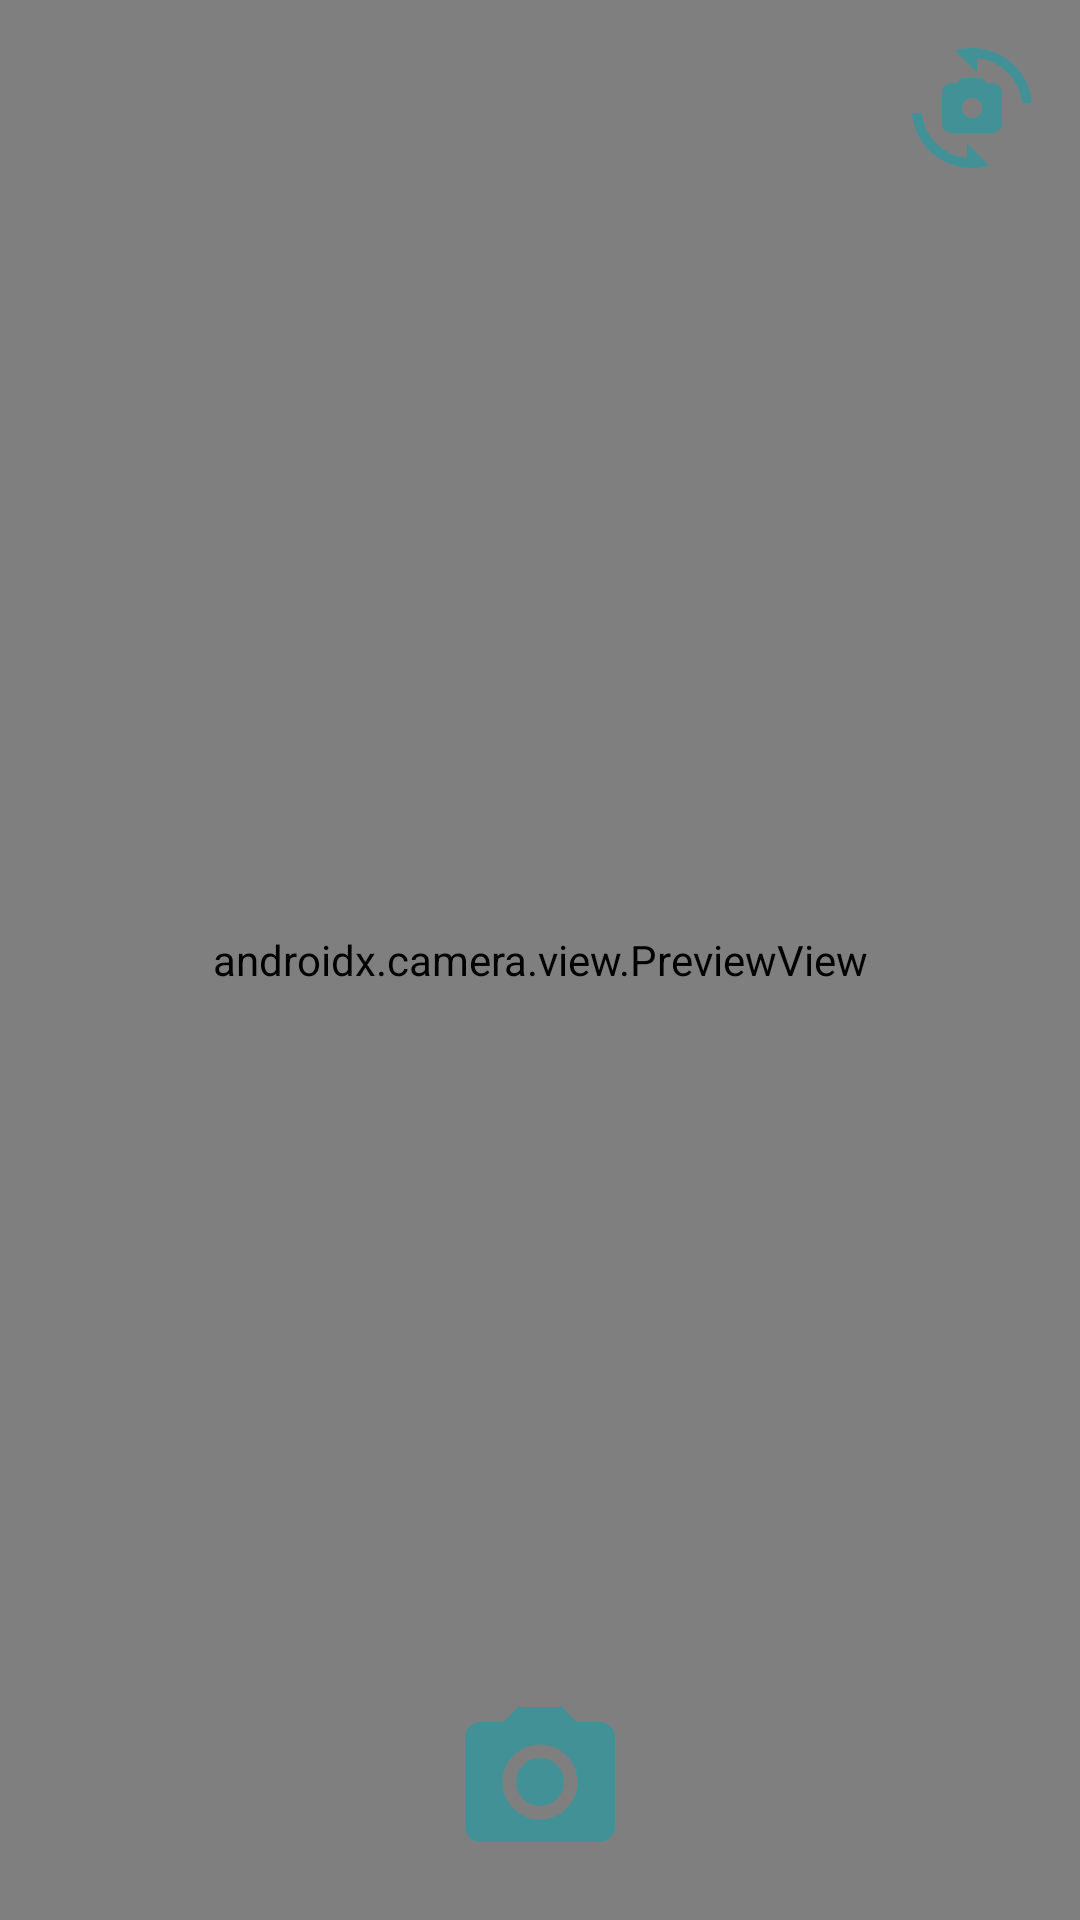

Icon click points for this 1080*1920 phone screenshot, format [x,y]:
rotate camera: [972,108]
